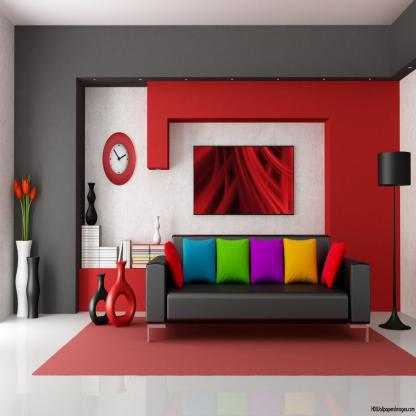bantal: (286, 239, 319, 284), (182, 239, 214, 284), (217, 239, 249, 283), (251, 239, 283, 282)
bu: (81, 225, 117, 268)
jam dinding: (102, 132, 137, 187)
meja: (377, 147, 413, 338)
sova: (148, 234, 375, 346)
tanaman: (14, 177, 41, 241)
